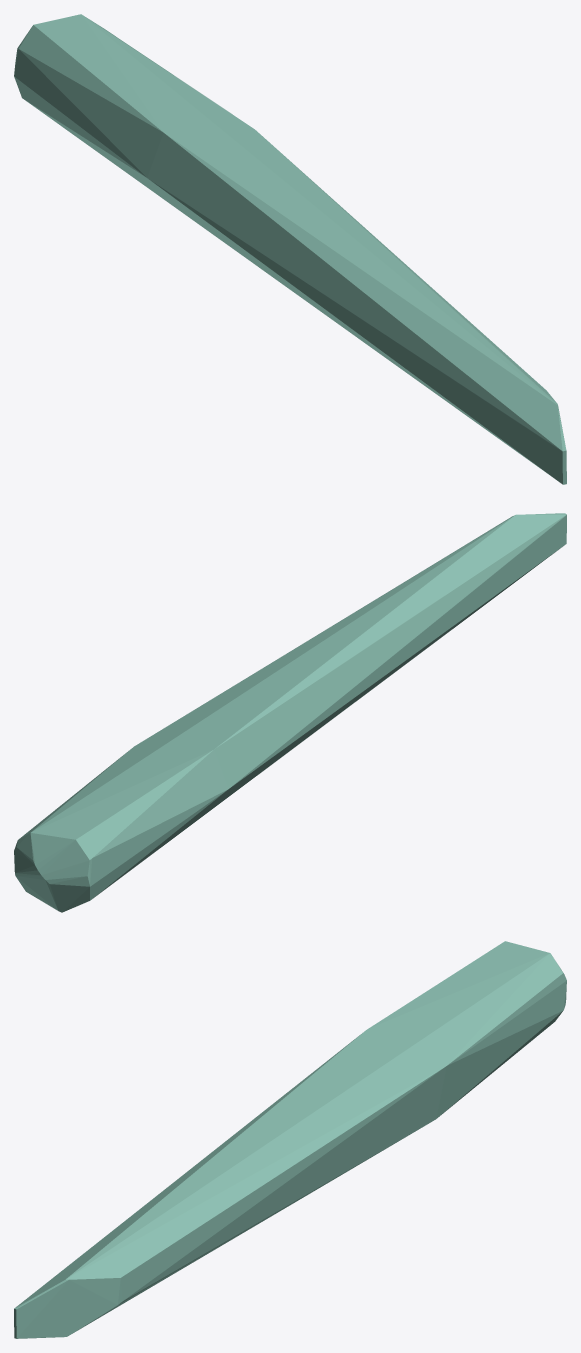
Rendered from handTool_pry_bar_11_8in_a01.glb.
3 views of the same model, one above another, from view 1: azimuth 30°, elevation 25°; view 2: azimuth 150°, elevation 25°; view 3: azimuth 330°, elevation 25° (orthographic). The views are drawn at different scales.
Parts seen in each view (by area): view 1: geometry_0; view 2: geometry_0; view 3: geometry_0.
Part boxes in pixels (box(x1,y1,x2,y2)): geometry_0: box(14, 14, 566, 484); geometry_0: box(14, 513, 566, 912); geometry_0: box(14, 941, 566, 1338).
Size of the model in its own units: 0.0536 by 0.0476 by 0.48.
